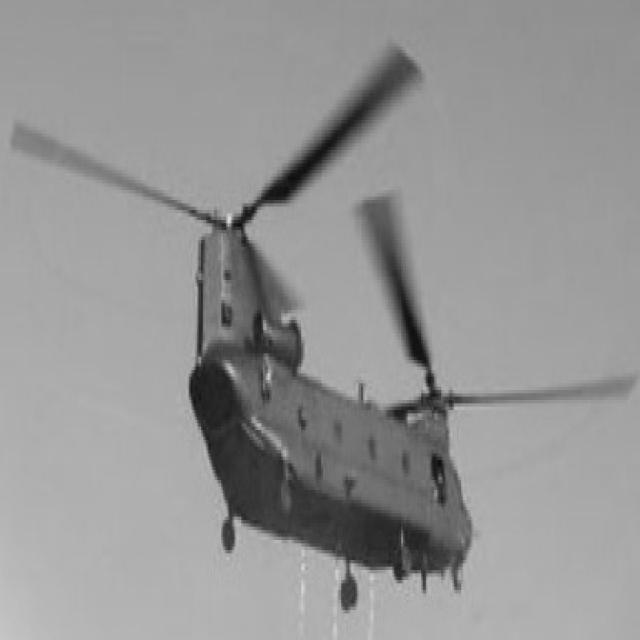Helicopter: (14, 49, 636, 610)
